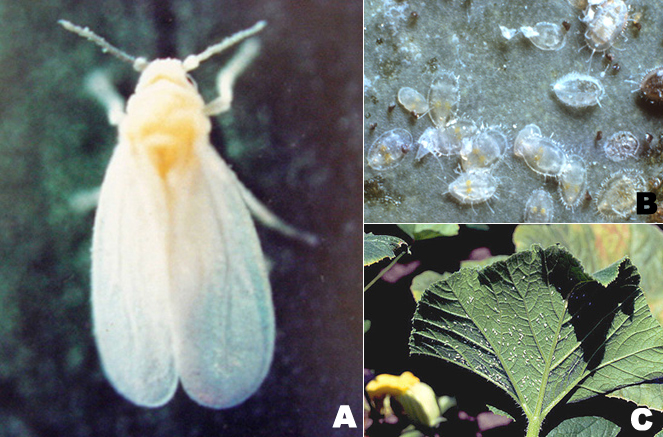whitefly: (55, 17, 301, 410)
